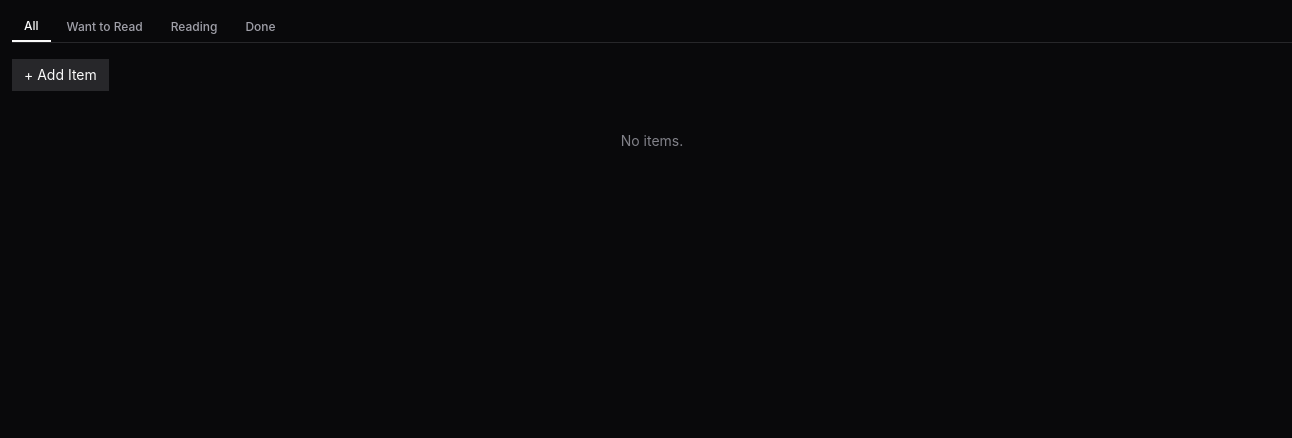
Test: ReadingList › shows add form on button click
What coordinates should you click on to do the following:
click the button "+ Add Item"
I would click on:
 (60, 75)
Its box is [12,59,109,91].
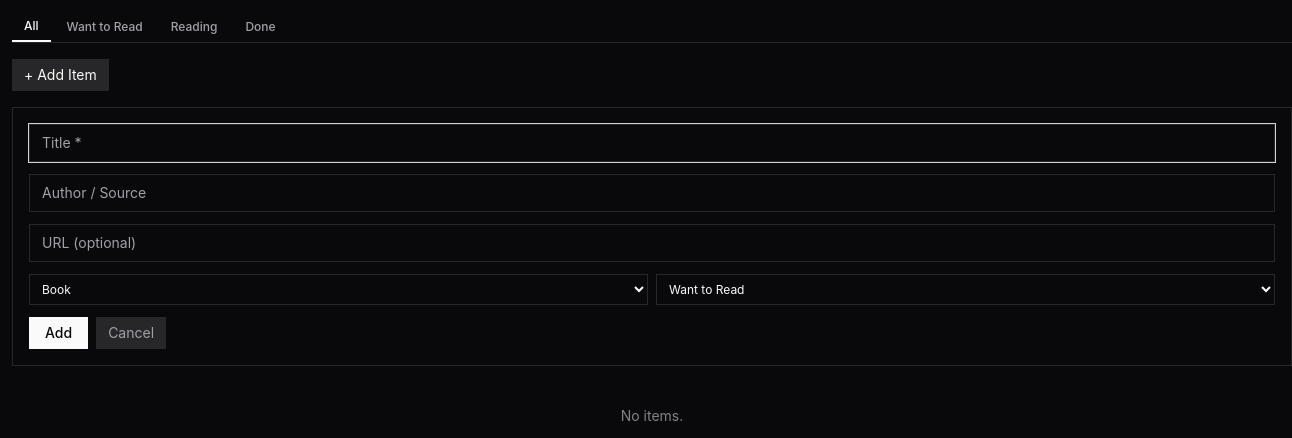
Expected: the field with placeholder "Title *" is shown, [29,124,1275,162]
